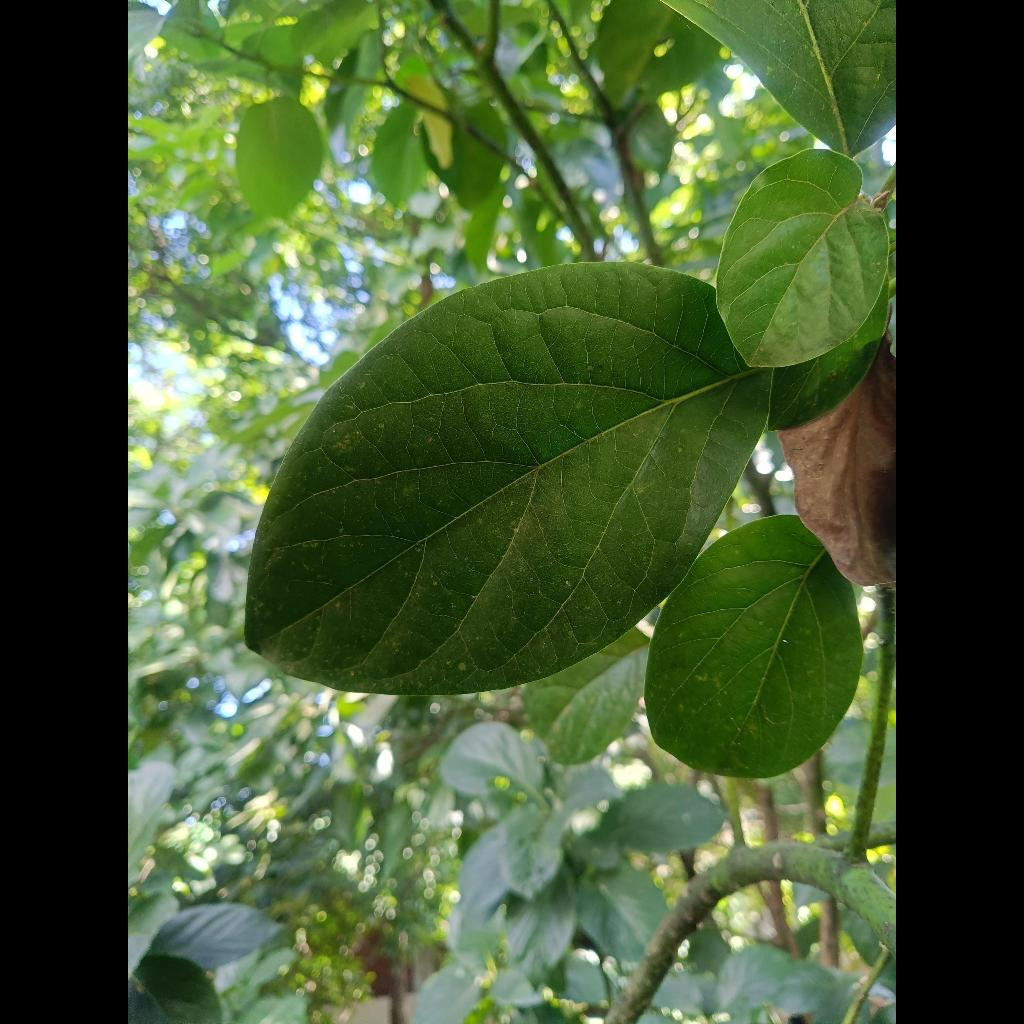hoja_sana: (245, 263, 771, 694), (717, 149, 889, 367)
